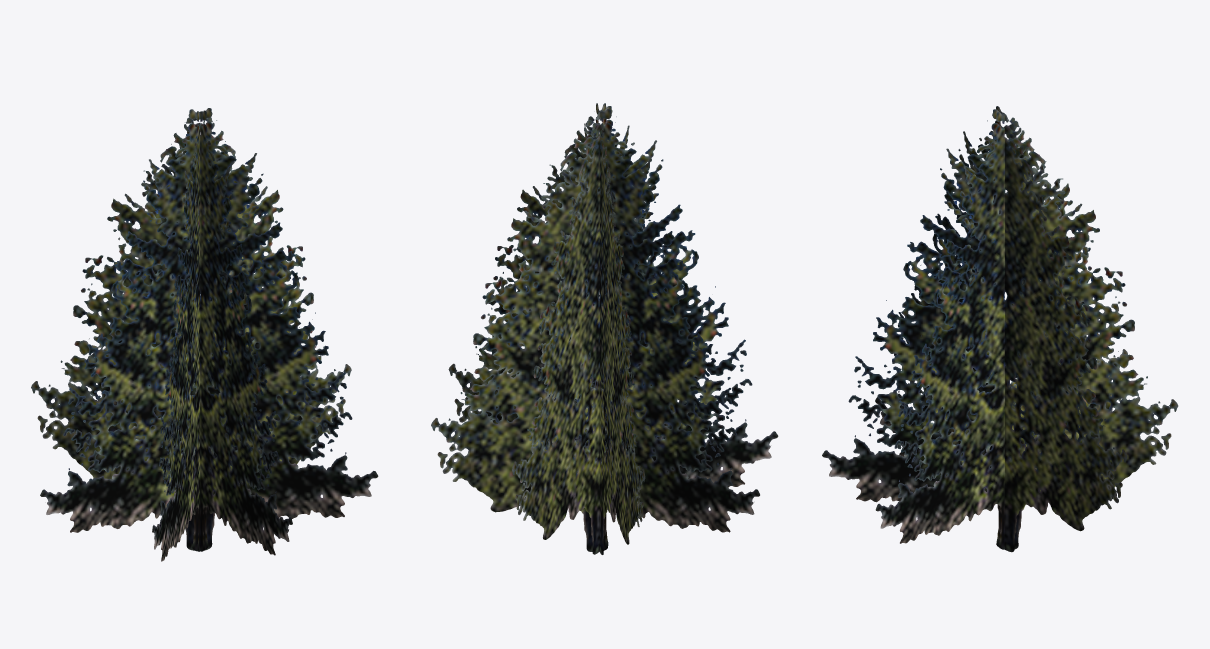
File: Tree2.fbx
The picture shows the model from 3 angles, left to right: view 1: azimuth 30°, elevation 25°; view 2: azimuth 150°, elevation 25°; view 3: azimuth 270°, elevation 25°; orthographic projection.
Parts seen in each view (by area): view 1: fluffy-live-tree-open-area-against-sky; view 2: fluffy-live-tree-open-area-against-sky; view 3: fluffy-live-tree-open-area-against-sky.
Boxes of the visible parts, left/top/right/bottom form: fluffy-live-tree-open-area-against-sky: left=31, top=108, right=378, bottom=561; fluffy-live-tree-open-area-against-sky: left=431, top=103, right=778, bottom=554; fluffy-live-tree-open-area-against-sky: left=822, top=106, right=1178, bottom=552.
Bounding box in the file's own units: 450 × 600 × 450.
Materials: 1 (1 with a texture image).
